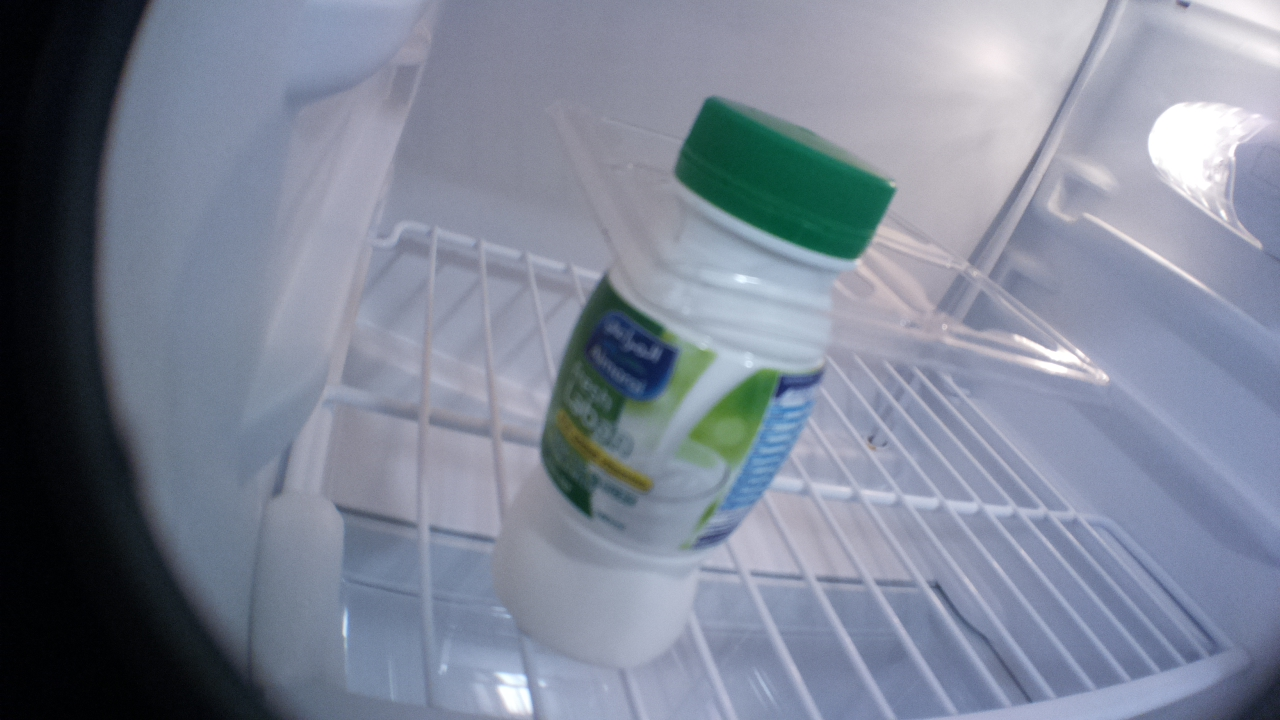laban: (495, 92, 899, 670)
